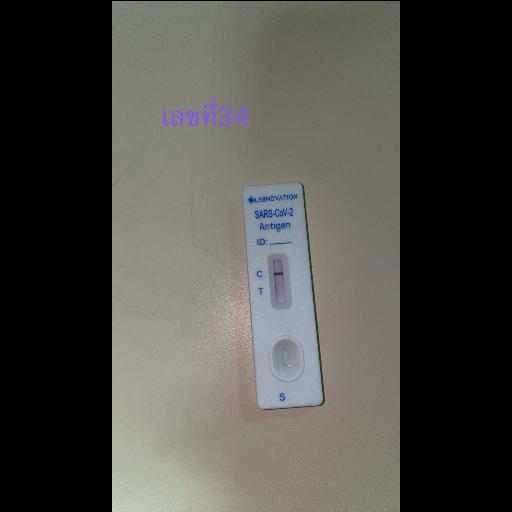Neg: (238, 180, 325, 410)
